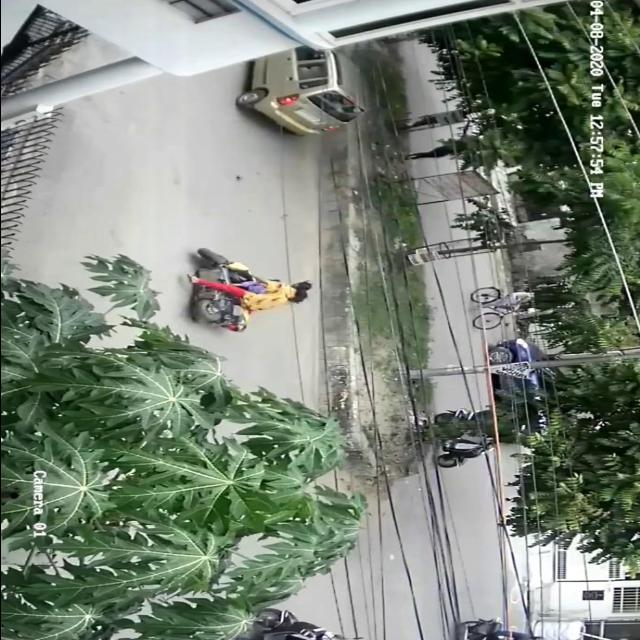accident: (180, 241, 324, 343)
